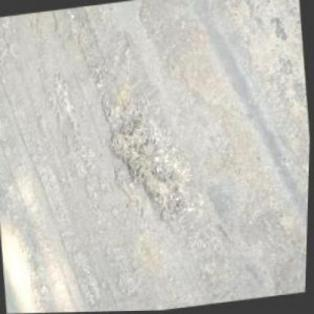Hueco: (101, 111, 190, 229), (52, 70, 78, 128)
